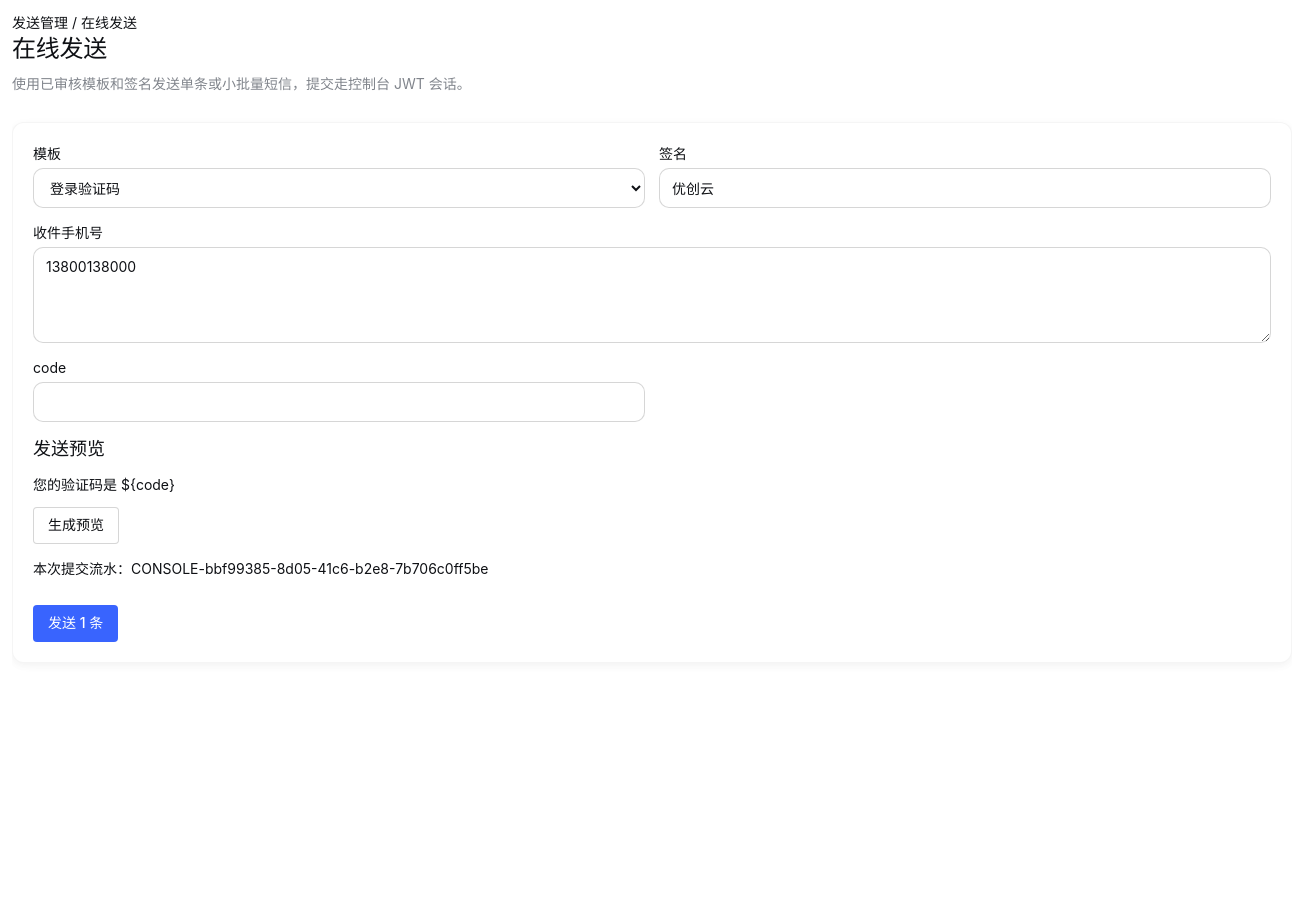
Phase 26 tenant console send page › previews approved resources and submits console send with a stable request shape
The width and height of the screenshot is (1292, 912).
Type "2468" into the field with test id "tenant-tenant-console-send-variable-code" at (339, 402), box [33,382,645,422]
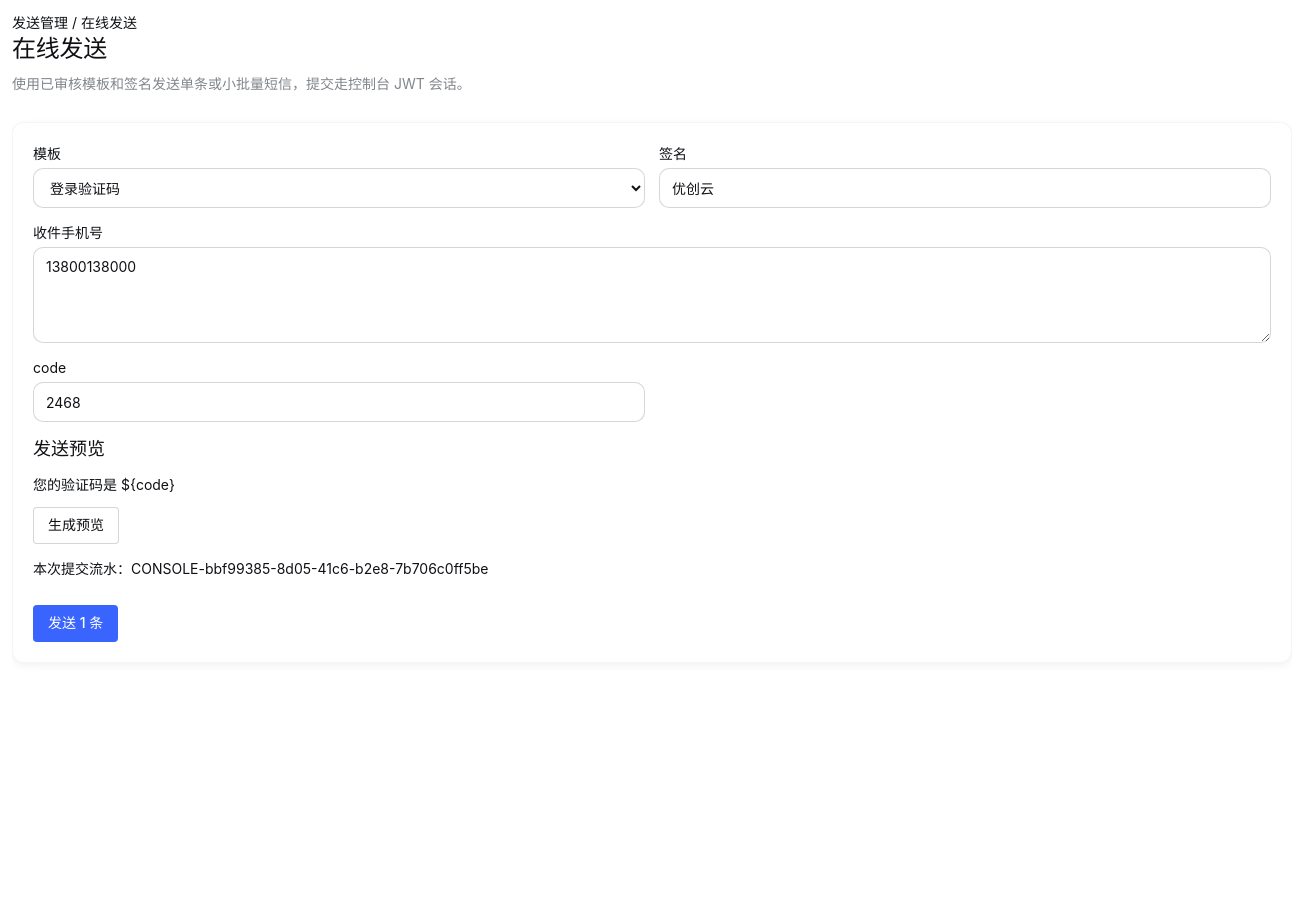
Click the button "生成预览" at (76, 525), box [33,507,119,544]
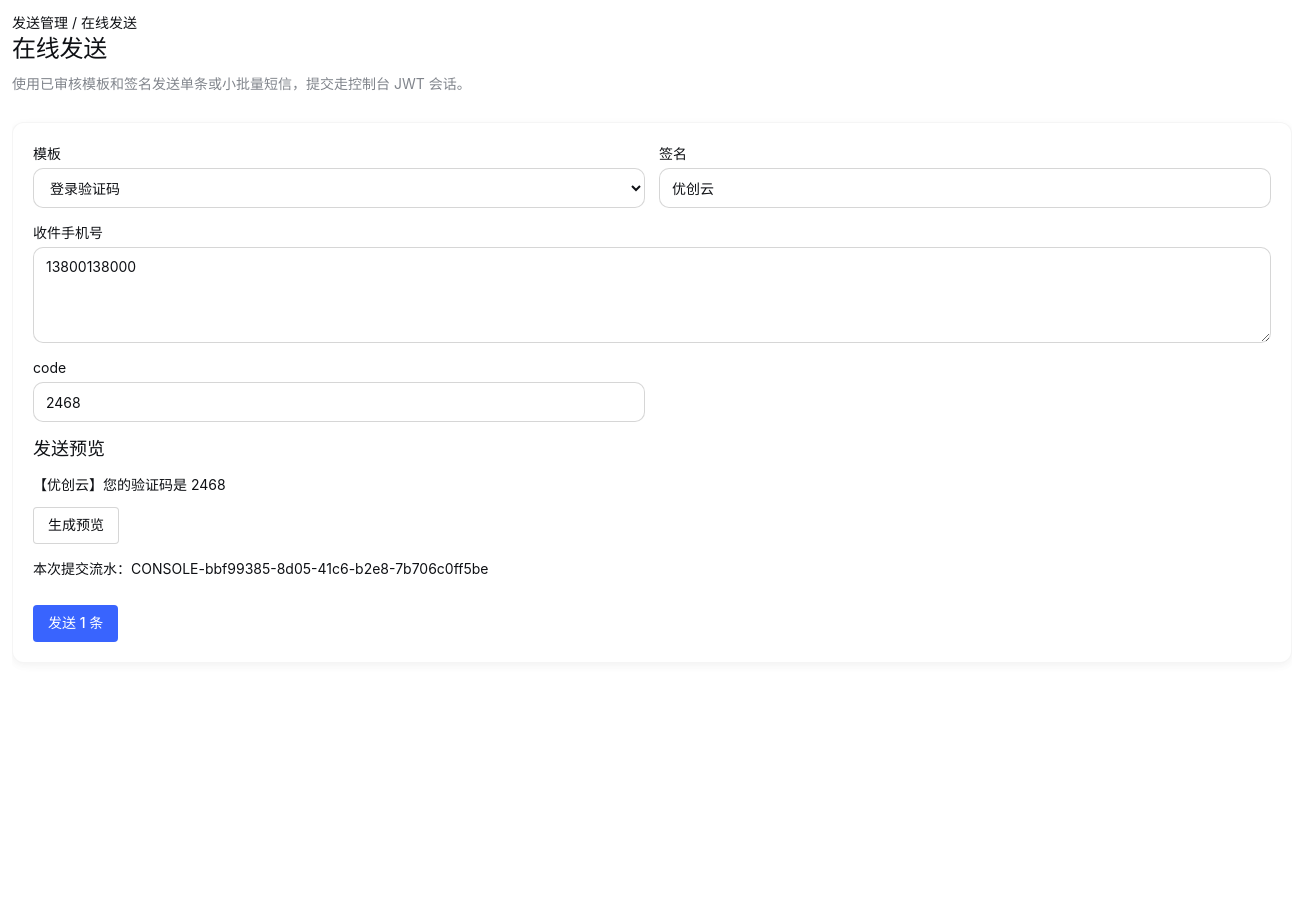
Expected: the text "【优创云】您的验证码是 2468" is shown, [33,476,226,493]
Click the button with test id "tenant-tenant-console-send-submit" at (76, 623), box [33,605,118,642]
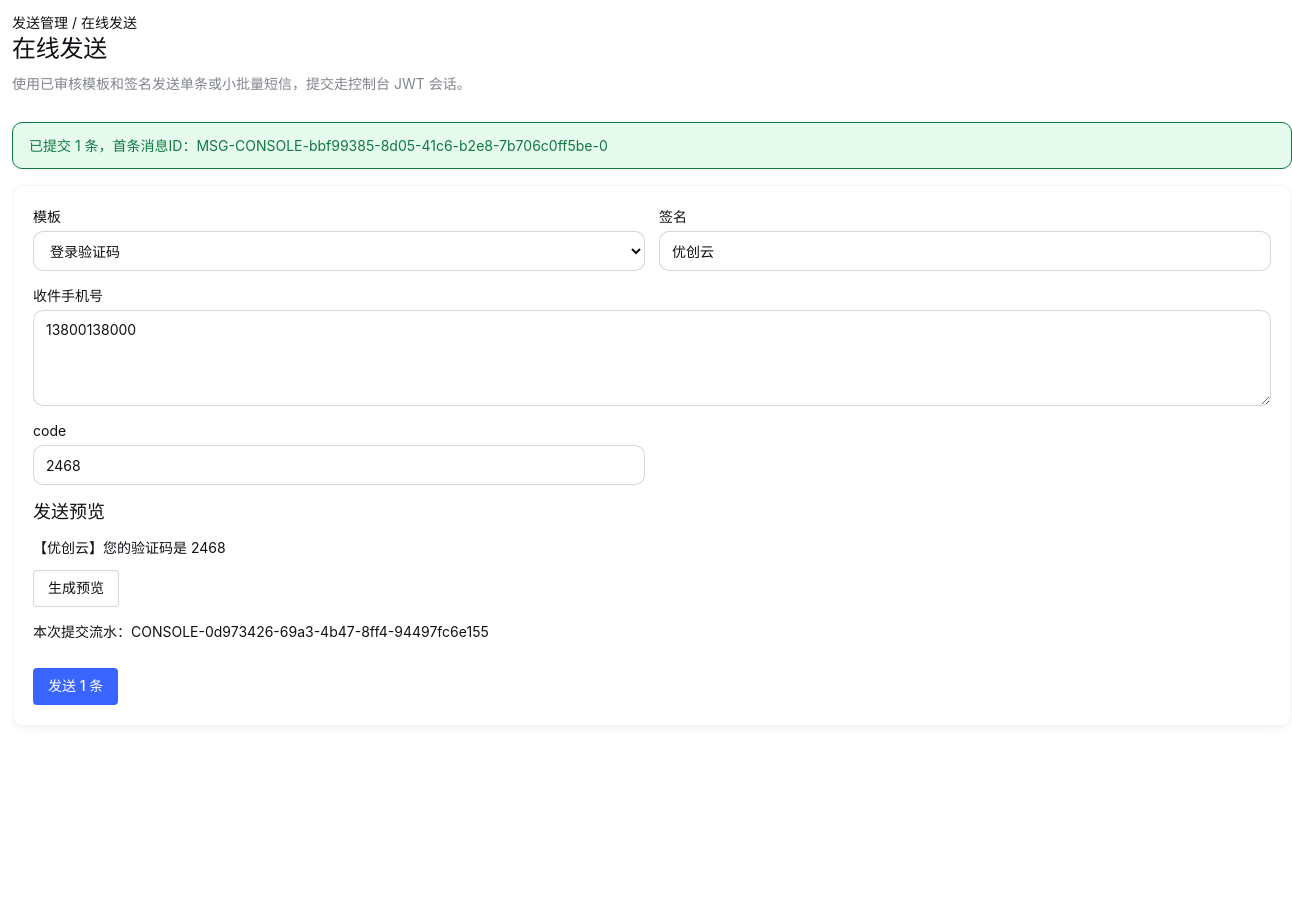
Expected: the text "已提交 1 条" is shown, [12,122,1291,169]
